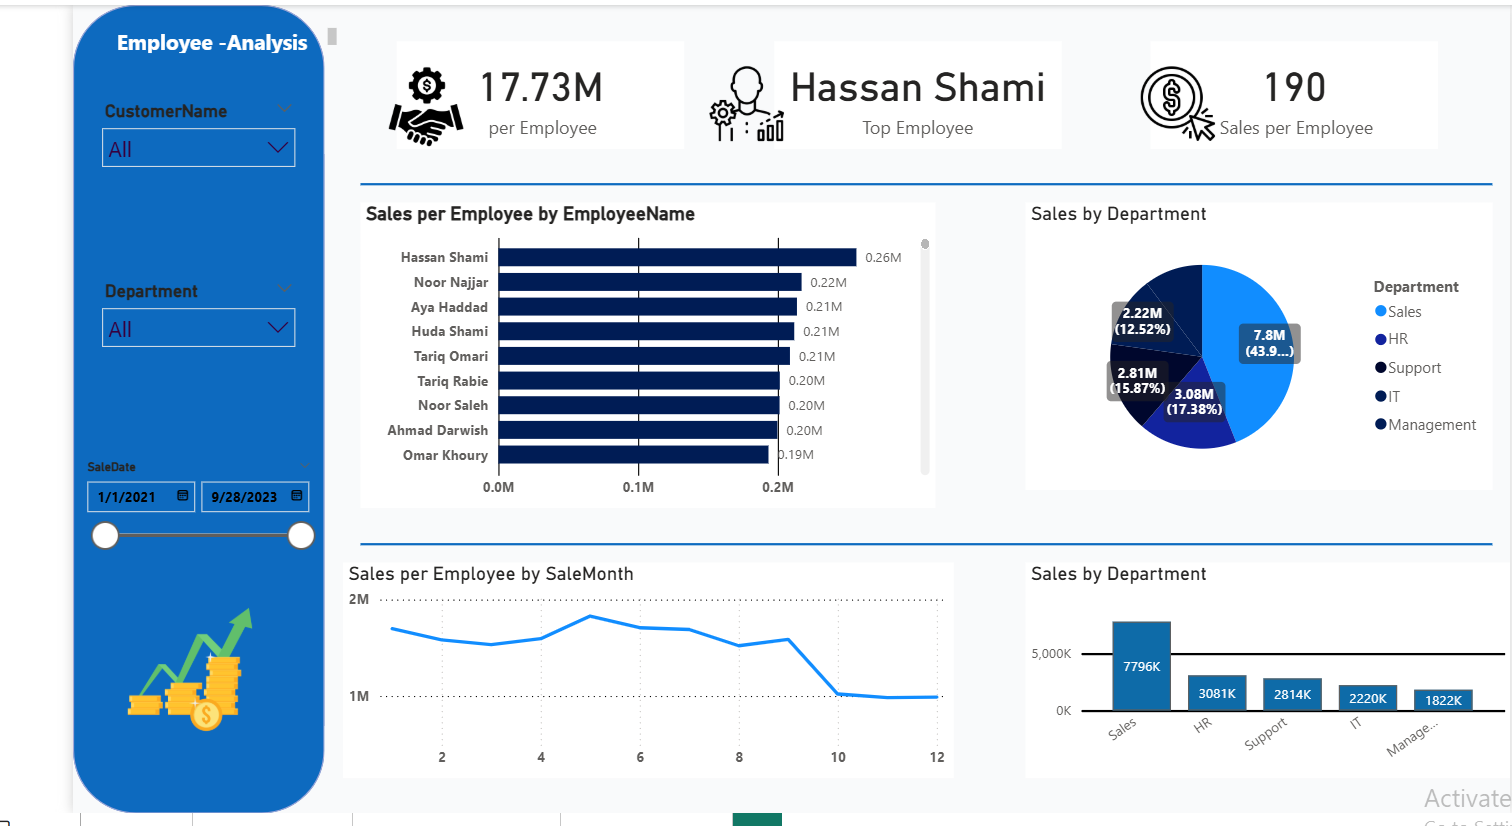

The page's visual inventory and layout, read from the dashboard file:
{"tool":"powerbi","page":{"name":"Employee Performance","canvas":[1280,720],"ordinal":2},"visuals":[{"type":"shape","box":[256,464,1008,32],"z":0},{"type":"shape","box":[256,144,1008,32],"z":1000},{"type":"shape","box":[0,0,224,720],"z":2000},{"type":"card","fields":{"Values":["sales_star.Number of Sales per Employee"]},"box":[960,32,256,96],"z":3000},{"type":"card","fields":{"Values":["sales_star.Top Sales Employee"]},"box":[624,32,256,96],"z":4000},{"type":"card","fields":{"Values":["sales_star.Total Sales per Employee"]},"box":[288,32,256,96],"z":5000},{"type":"barChart","title":"Sales per Employee by EmployeeName","fields":{"Category":["sales_star.EmployeeName"],"Y":["sales_star.Total Sales per Employee"]},"box":[256,176,512,272],"z":6000},{"type":"columnChart","title":" Sales by Department","fields":{"Y":["sales_star.Total Sales"],"Category":["sales_star.Department"]},"box":[848,496,432,192],"z":7000},{"type":"slicer","fields":{"Values":["sales_star.SaleDate"]},"box":[0,400,224,96],"z":8000},{"type":"slicer","fields":{"Values":["sales_star.Department"]},"box":[16,240,192,128],"z":9000},{"type":"slicer","fields":{"Values":["sales_star.CustomerName"]},"box":[16,80,192,128],"z":10000},{"type":"pieChart","title":" Sales by Department","fields":{"Y":["sales_star.Total Sales"],"Category":["sales_star.Department"]},"box":[848,176,416,256],"z":11000},{"type":"lineChart","title":"Sales per Employee by SaleMonth","fields":{"Category":["sales_star.SaleMonth"],"Y":["sales_star.Total Sales per Employee"]},"box":[240,496,544,192],"z":12000},{"type":"image","box":[944,48,80,80],"z":13000},{"type":"image","box":[560,48,80,80],"z":14000},{"type":"image","box":[272,48,86,86],"z":15000},{"type":"image","box":[32,528,144,128],"z":16000},{"type":"textbox","box":[16,16,224,32],"z":17000}]}

Visuals, with their boxes in screenshot pixels (x1, y1, x2, y2), scaled from the page's 1280x720 canvas onto the 1512x826 screenshot:
shape: bbox=[302, 532, 1493, 569]
shape: bbox=[302, 165, 1493, 202]
shape: bbox=[0, 0, 265, 825]
card - sales_star.Number of Sales per Employee: bbox=[1134, 37, 1436, 147]
card - sales_star.Top Sales Employee: bbox=[737, 37, 1040, 147]
card - sales_star.Total Sales per Employee: bbox=[340, 37, 643, 147]
"Sales per Employee by EmployeeName" barChart: bbox=[302, 202, 907, 514]
" Sales by Department" columnChart: bbox=[1002, 569, 1511, 789]
slicer - sales_star.SaleDate: bbox=[0, 459, 265, 569]
slicer - sales_star.Department: bbox=[19, 275, 246, 422]
slicer - sales_star.CustomerName: bbox=[19, 92, 246, 239]
" Sales by Department" pieChart: bbox=[1002, 202, 1493, 496]
"Sales per Employee by SaleMonth" lineChart: bbox=[284, 569, 926, 789]
image: bbox=[1115, 55, 1210, 147]
image: bbox=[662, 55, 756, 147]
image: bbox=[321, 55, 423, 154]
image: bbox=[38, 606, 208, 753]
textbox: bbox=[19, 18, 284, 55]
